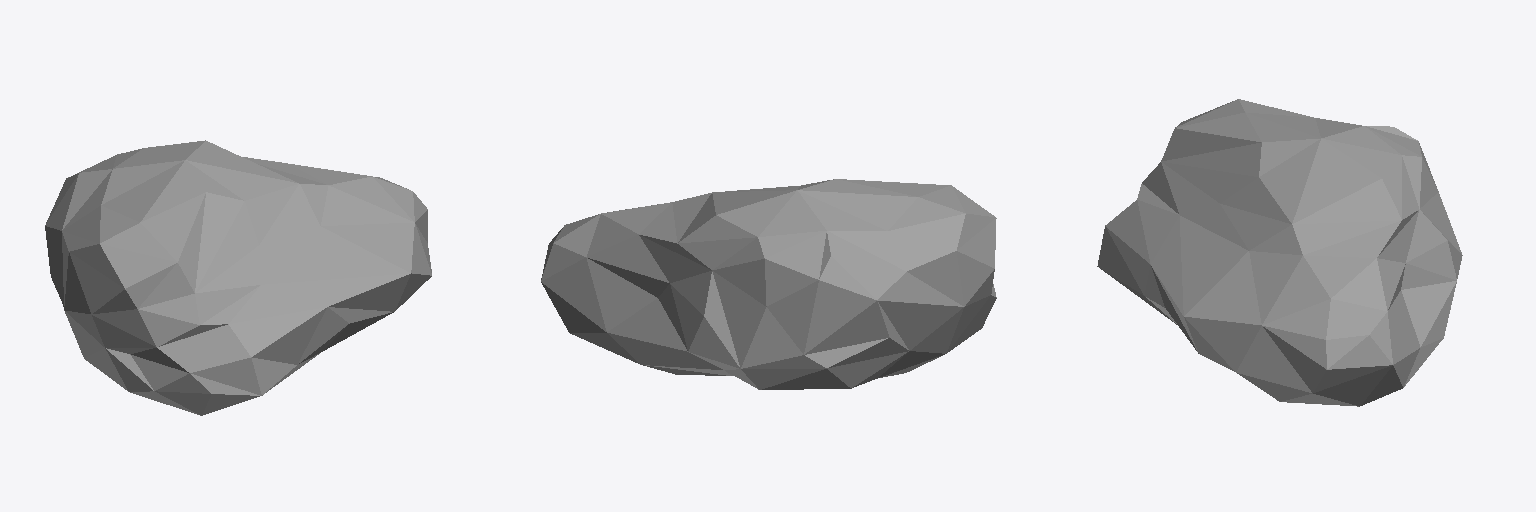
The picture shows the model from 3 angles: view 1: azimuth 30°, elevation 25°; view 2: azimuth 150°, elevation 25°; view 3: azimuth 270°, elevation 25°; orthographic projection.
Visible parts, largest first — view 1: rock.005; view 2: rock.005; view 3: rock.005.
Boxes of the visible parts, x1,y1,x2,y2 form: rock.005: [45, 140, 431, 415]; rock.005: [541, 179, 996, 389]; rock.005: [1097, 99, 1462, 406].
Size of the model in its own units: 2.01 by 0.9115 by 1.62.